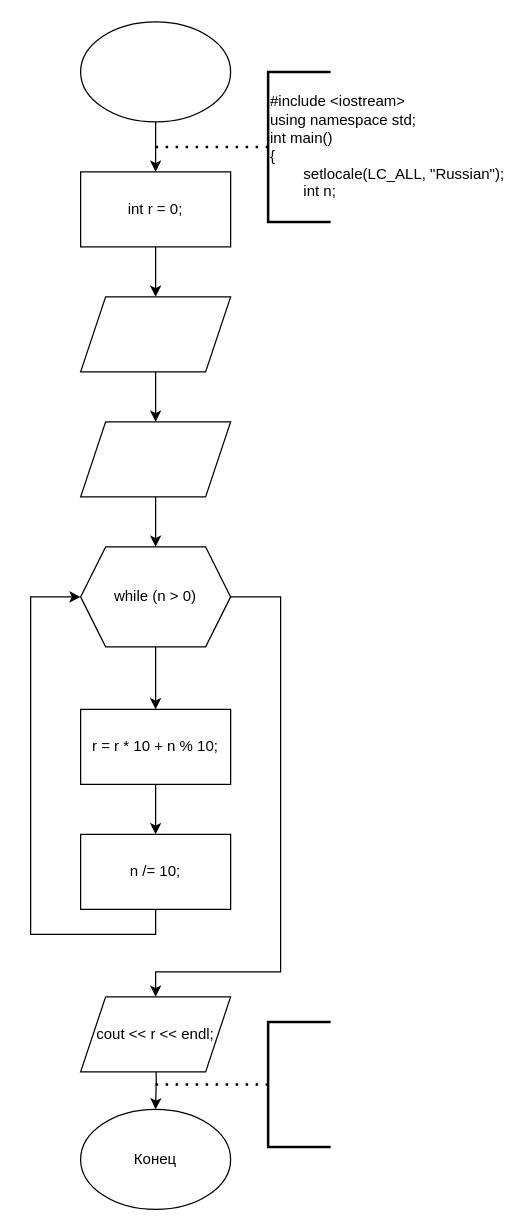
Some shapes in this 526 by 1231 pixel diagram are drawn without their labels. Here are the shapes that lost their labels. From the top down, the centre of each, then its label:
(155,71): Начало
(155,334): cout << "Введите число: \n";
(155,459): cin >> n;
(298,1084): return 0; }
